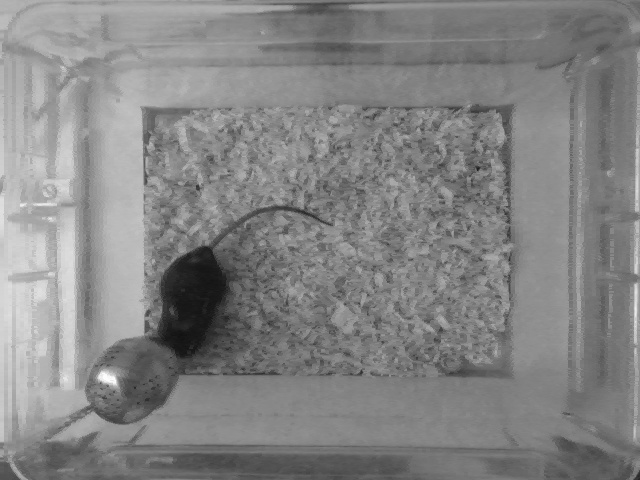mice: (151, 203, 334, 364)
